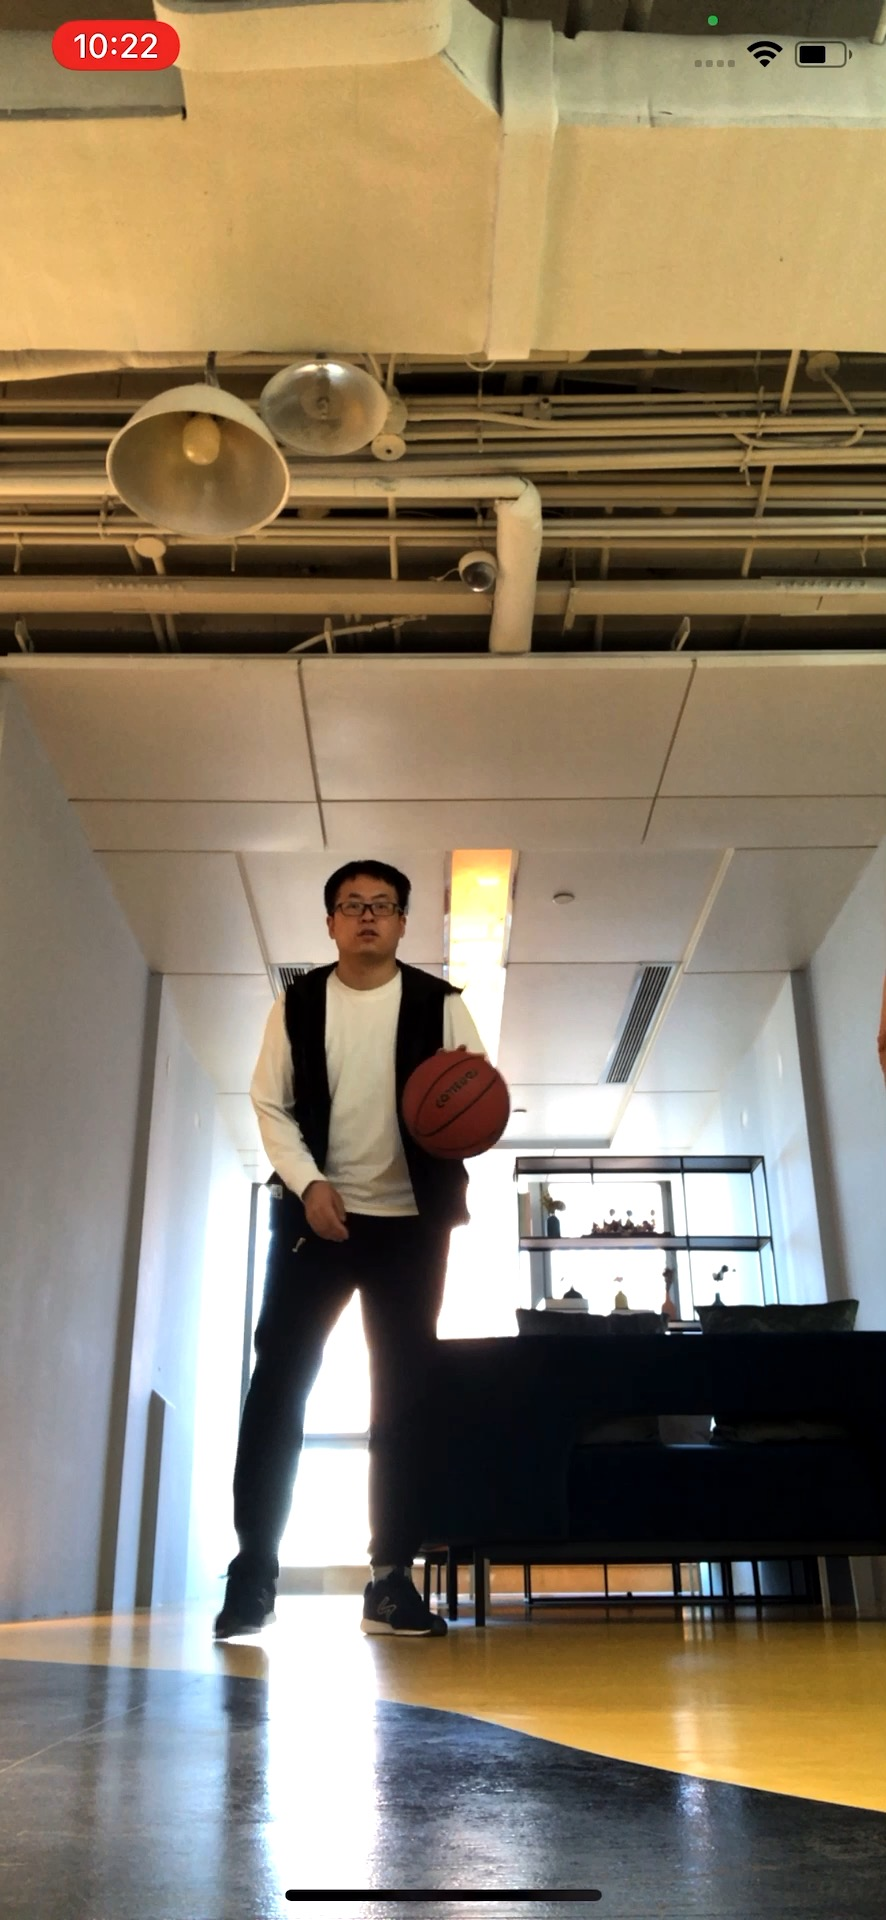ball: (398, 1053, 512, 1160)
